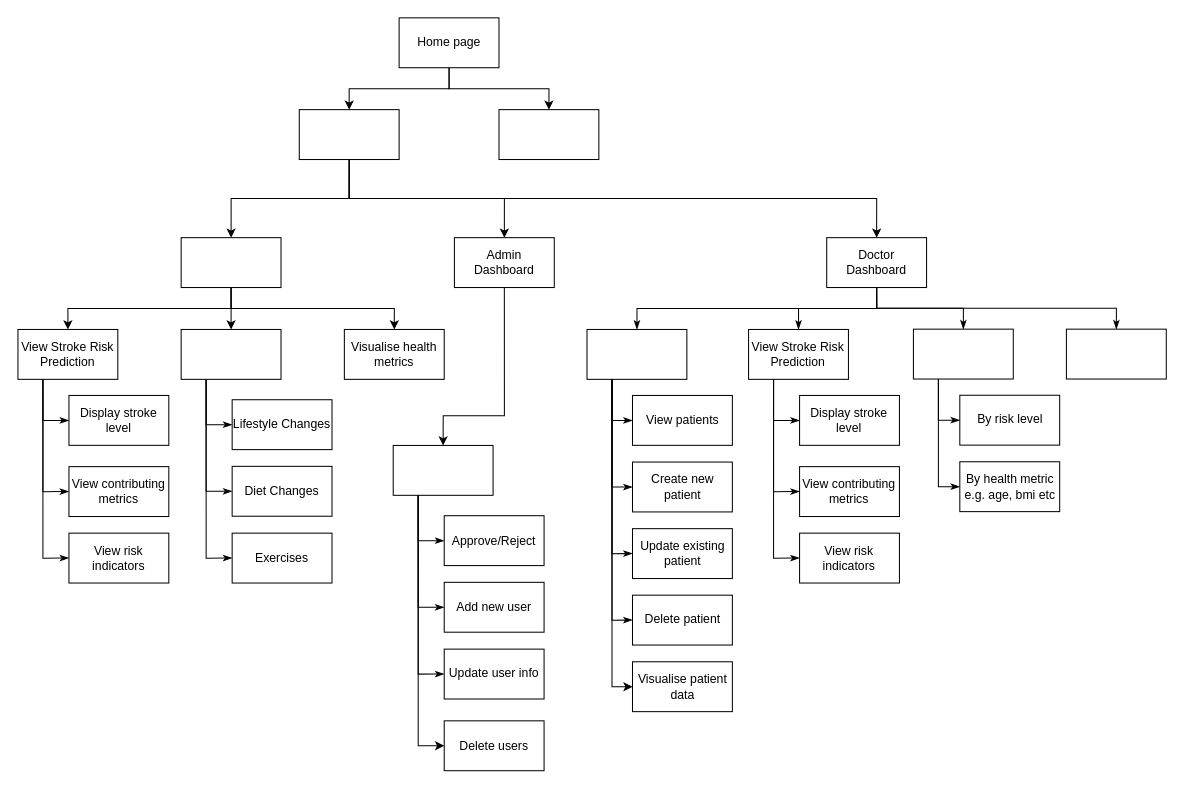
The diagram is 1184 pixels wide and 789 high, and some of its shapes have lost their labels. Here are the shapes that lost their labels. From the top down, the centre of each, then its label:
At pixel 348 134: "Login".
At pixel 548 134: "Sign Up".
At pixel 230 262: "Patient Dashboard".
At pixel 230 353: "Receive Health Recommendation".
At pixel 636 353: "Patient Management".
At pixel 962 353: "Filter & Sort patients".
At pixel 1115 353: "Set custom alerts".
At pixel 442 469: "Manage Users".
